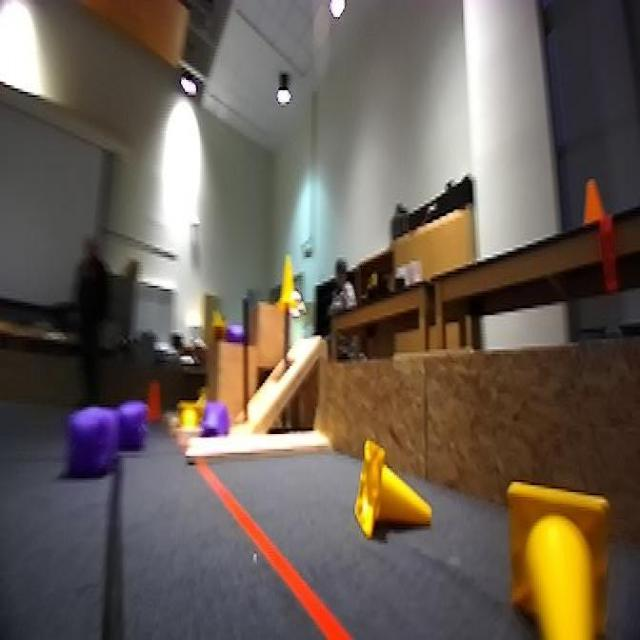frc_cone: (503, 476, 605, 640), (351, 442, 426, 538), (277, 250, 302, 315), (174, 402, 204, 431)
frc_cube: (68, 408, 119, 484), (120, 400, 149, 451), (218, 315, 248, 349), (200, 398, 224, 436)
